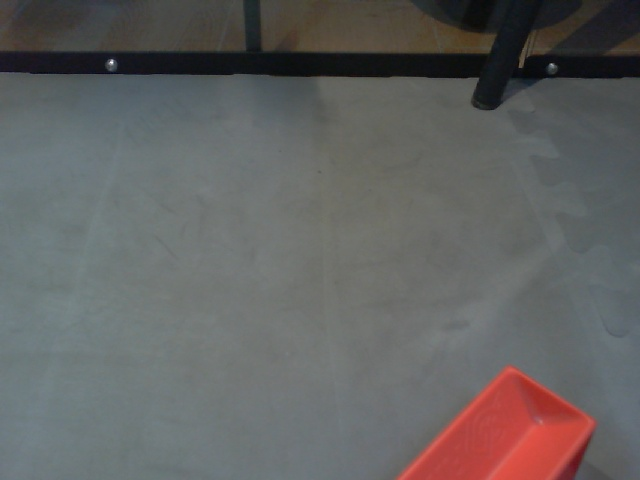RedSample: (383, 365, 601, 480)
